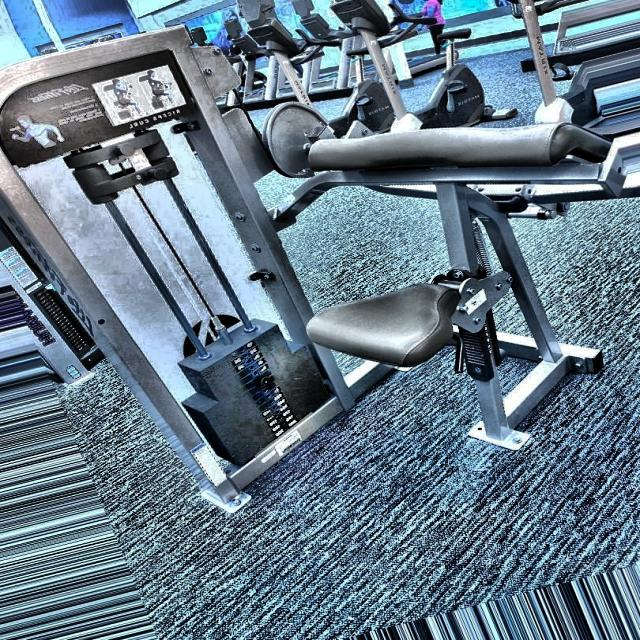bicep_curl_machine: (82, 10, 639, 471)
